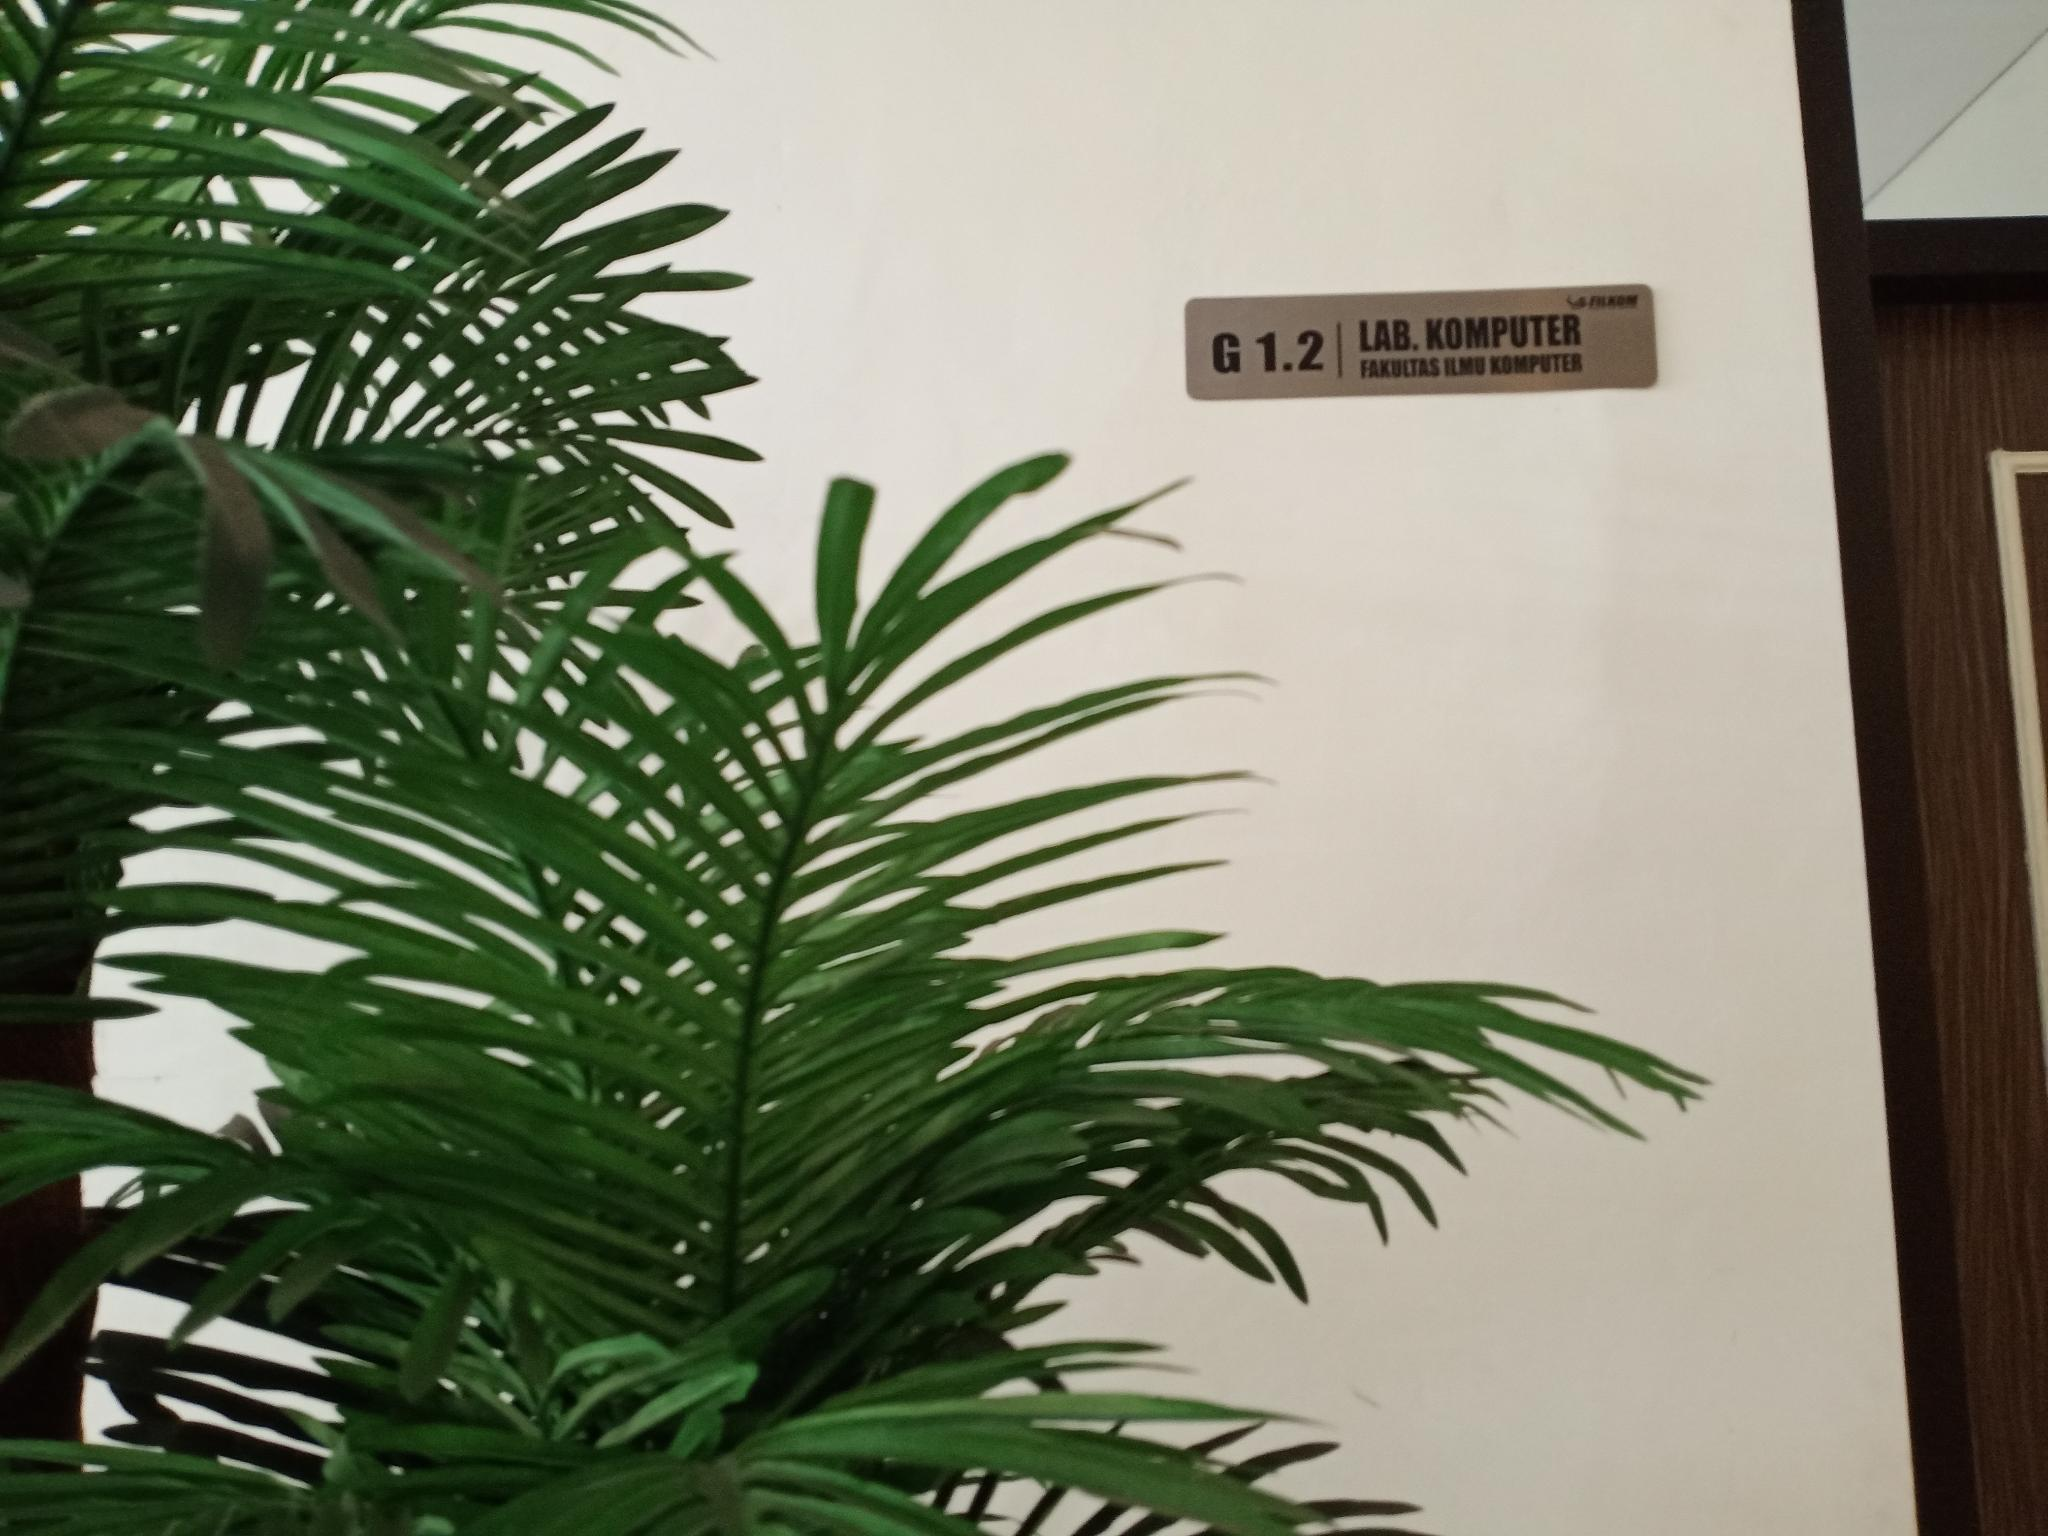plate: (1184, 284, 1659, 402)
